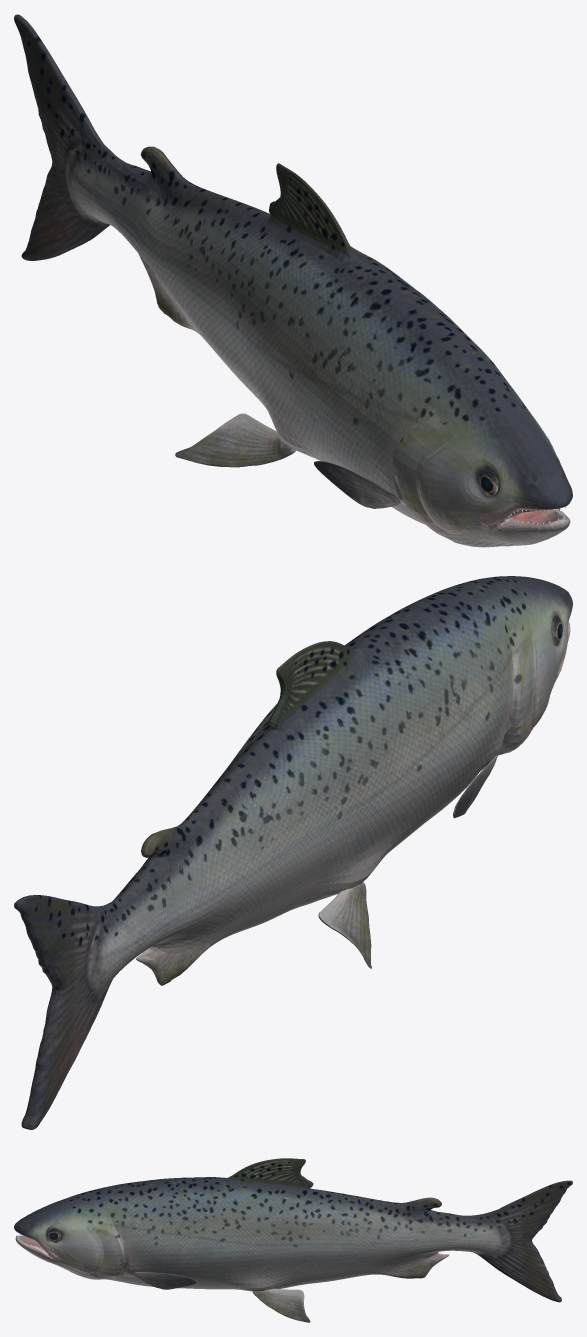
Rendered from Fish.gltf.
3 renders of one model, top to bottom at view 1: azimuth 30°, elevation 25°; view 2: azimuth 150°, elevation 25°; view 3: azimuth 270°, elevation 25°, orthographic. The views are drawn at different scales.
Bounding box in the file's own units: 0.5063 × 0.6963 × 2.46.
Materials: 1 (1 with a texture image).
